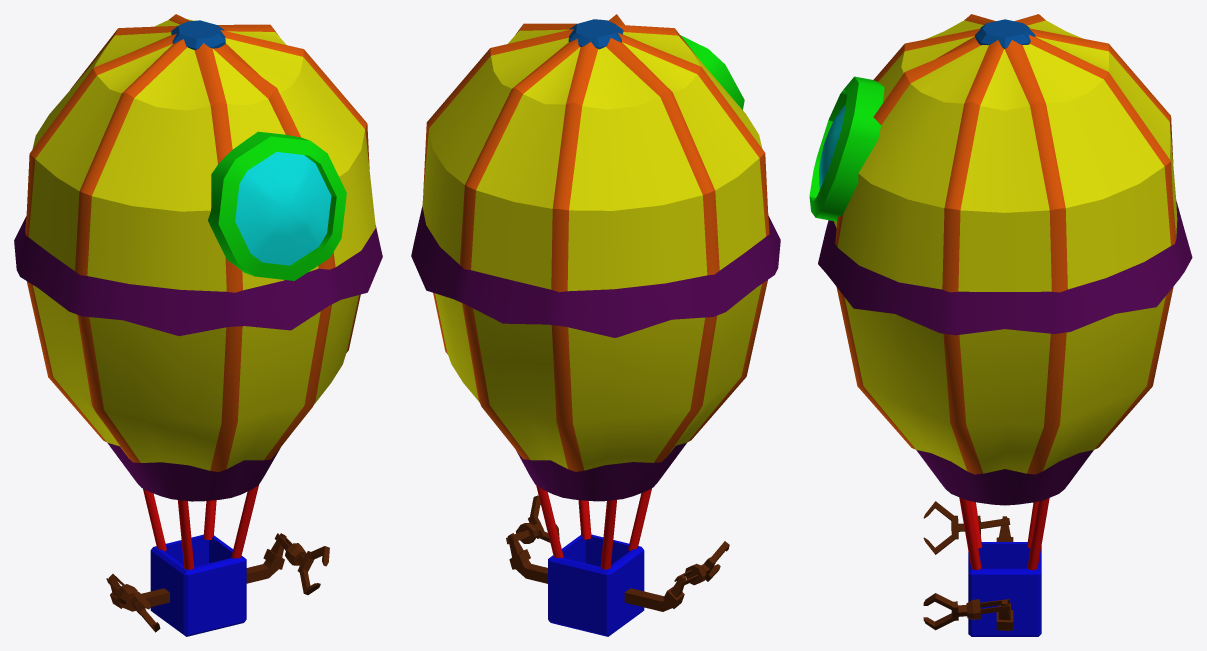
File: Flying Enemy 2.fbx
3 renders of one model, left to right at view 1: azimuth 30°, elevation 25°; view 2: azimuth 150°, elevation 25°; view 3: azimuth 270°, elevation 25°, orthographic.
Visible parts, largest first — view 1: Air_Enemy_Type_2_low1_Rope_low; view 2: Air_Enemy_Type_2_low1_Rope_low; view 3: Air_Enemy_Type_2_low1_Rope_low.
Boxes of the visible parts, <box> form: Air_Enemy_Type_2_low1_Rope_low: <box>14,14,382,636</box>; Air_Enemy_Type_2_low1_Rope_low: <box>411,14,780,636</box>; Air_Enemy_Type_2_low1_Rope_low: <box>809,14,1192,636</box>.
Bounding box in the file's own units: 3.42 × 5.98 × 3.49.
